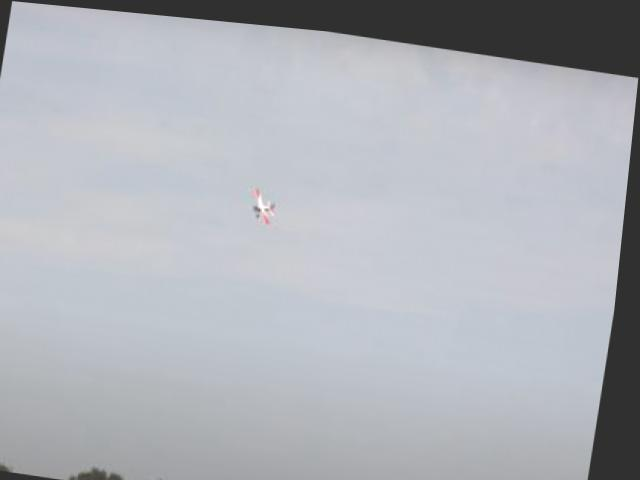uav: (246, 173, 287, 230)
